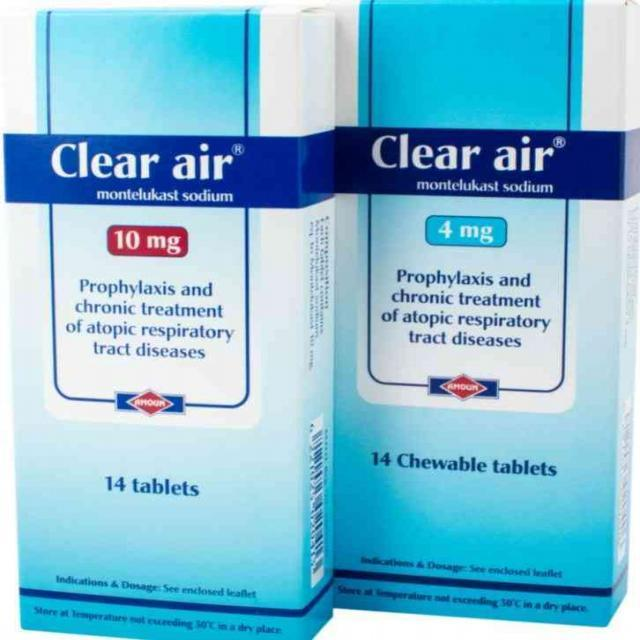drug-name: (51, 140, 236, 182)
